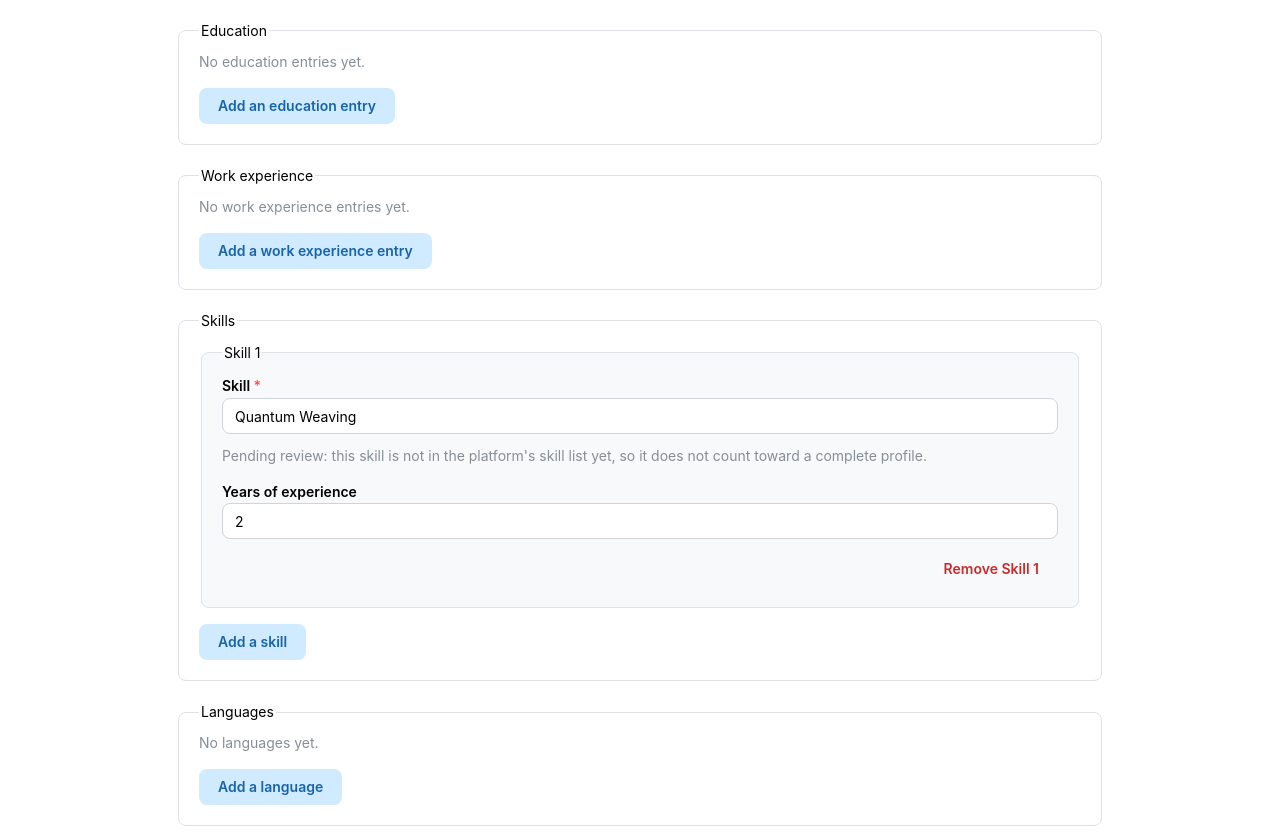
it: a skill that is pending Admin review › keeps the term in the editor and says it does not count yet
(page scrolled)
Expected: the text with test id "skill-pending-0" shows "Pending review", 222,447 -> 927,464
Note: An edited term has not been checked yet, so the note no longer applies.
Step 1. Type " Pro" into the dropdown with test id "skill-term-skills.0.term" → (640, 416), box 222,398 -> 1058,434
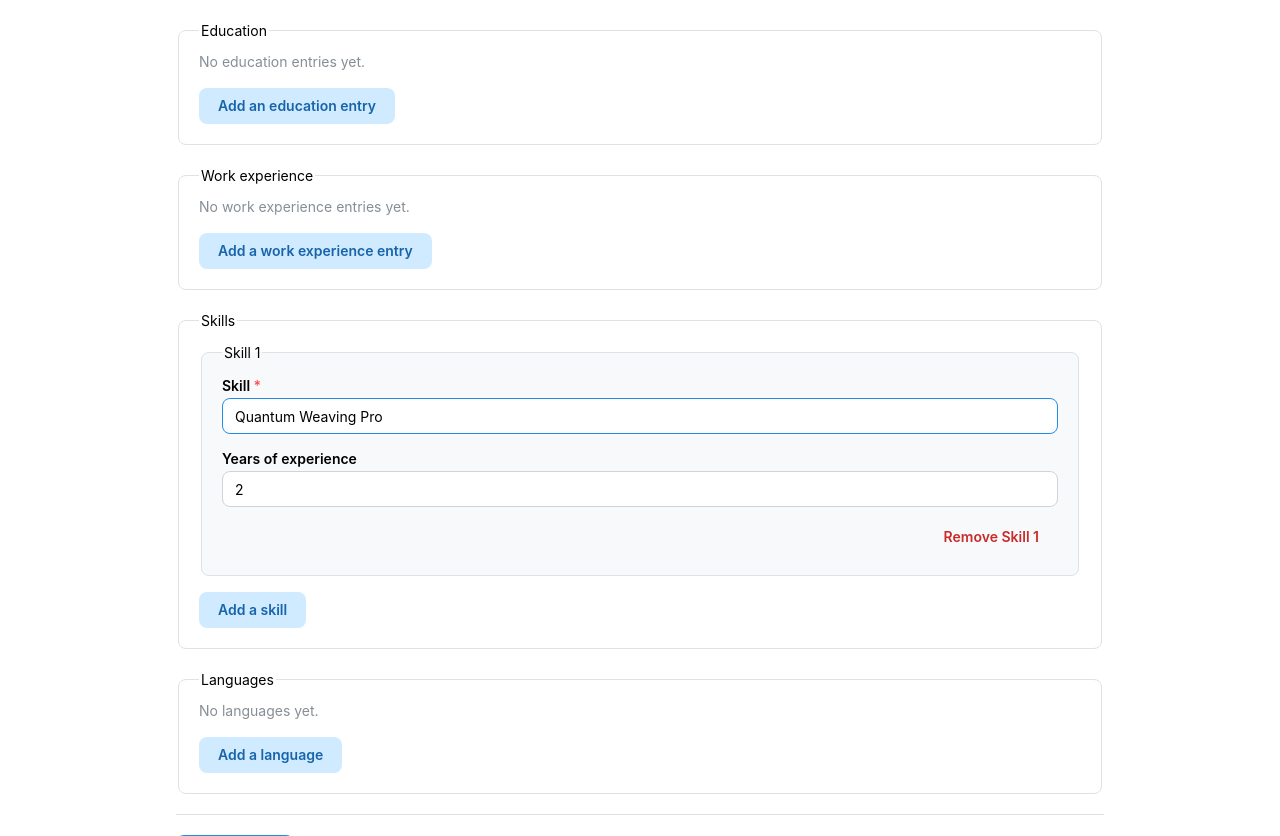
Expected: the text with test id "skill-pending-0" is gone
